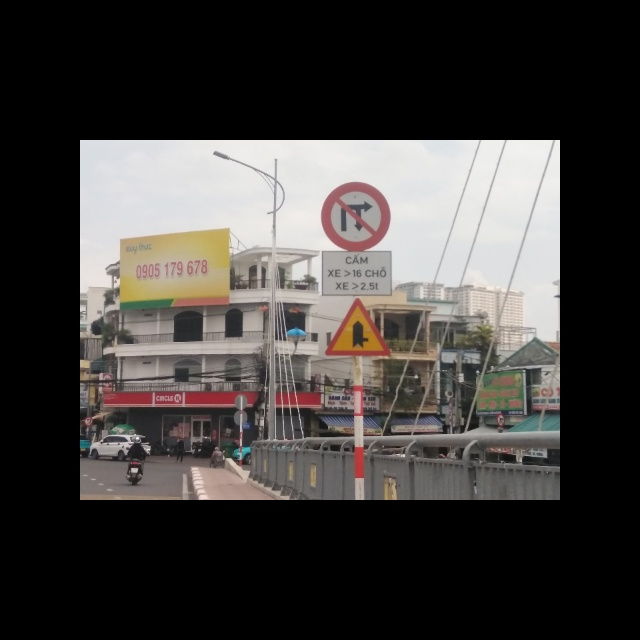Cấm quay đầu và rẽ phải: (320, 179, 392, 250)
Giao nhau với đường không ưu tiên: (323, 299, 392, 357)
